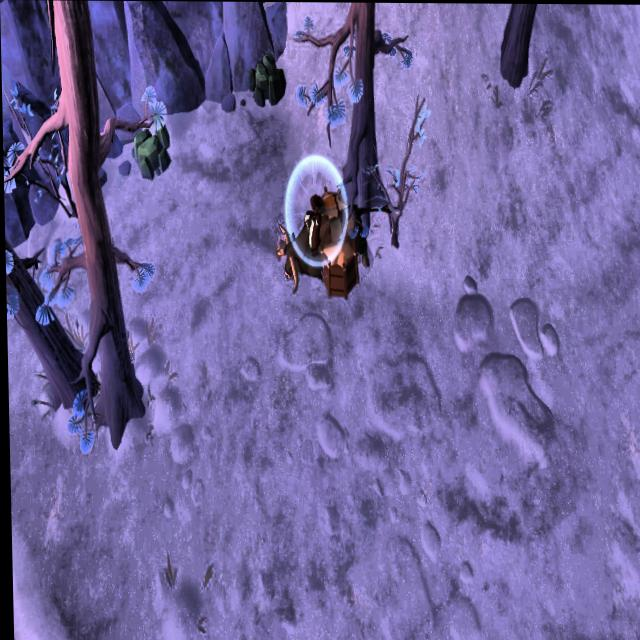rock_t3: (130, 114, 171, 181), (248, 48, 292, 110)
